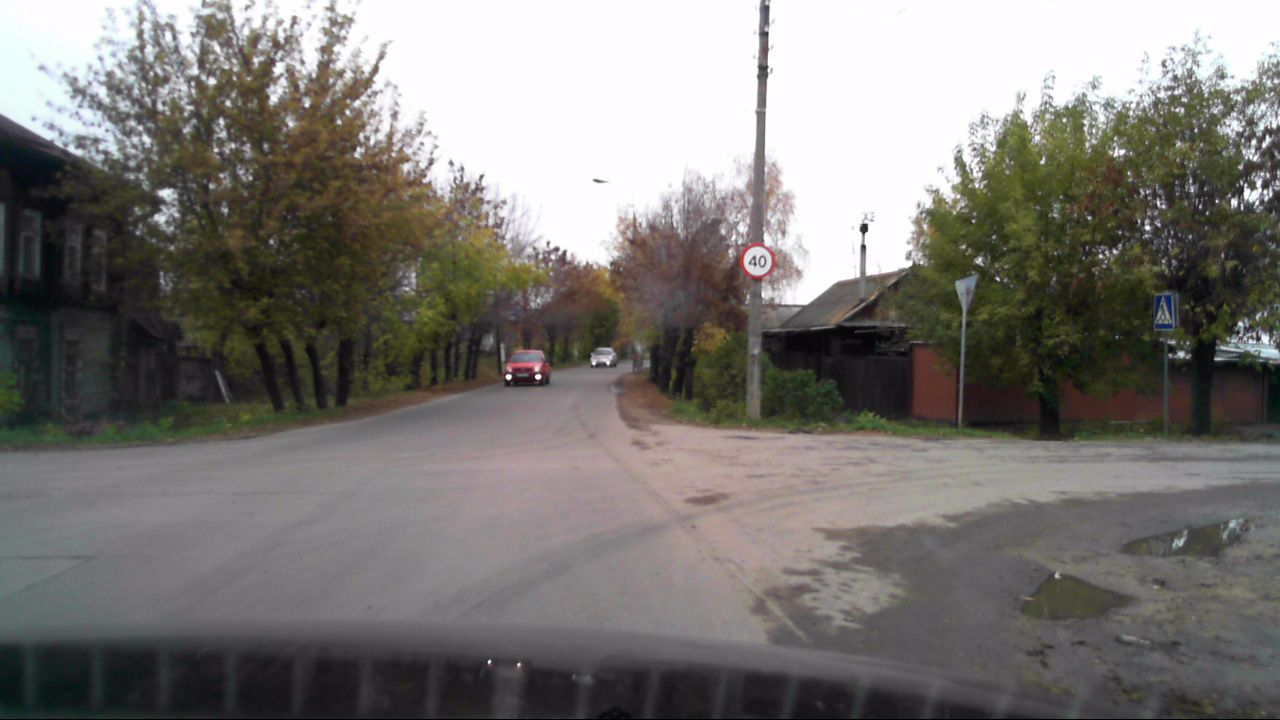speed_warning_40: (739, 244, 775, 280)
